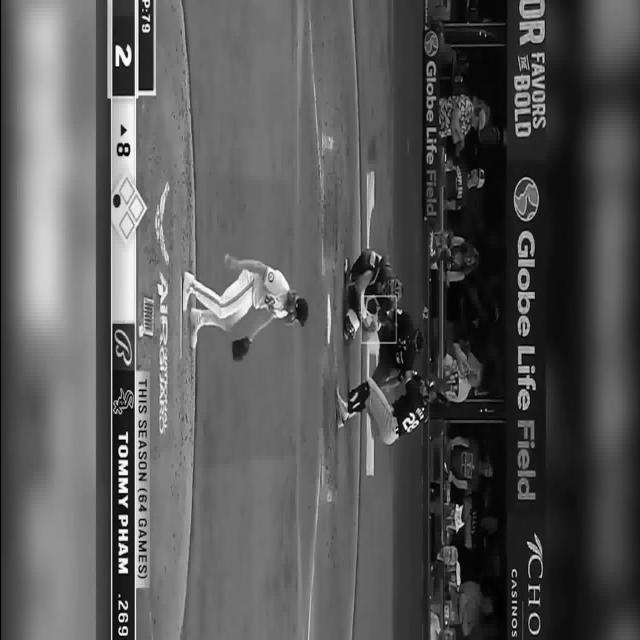baseball: (223, 256, 229, 266)
baseball_glove: (231, 335, 250, 361), (366, 290, 376, 320)
shoe: (334, 385, 348, 427), (182, 270, 194, 312), (189, 307, 199, 349), (343, 316, 355, 342), (343, 257, 353, 283)
